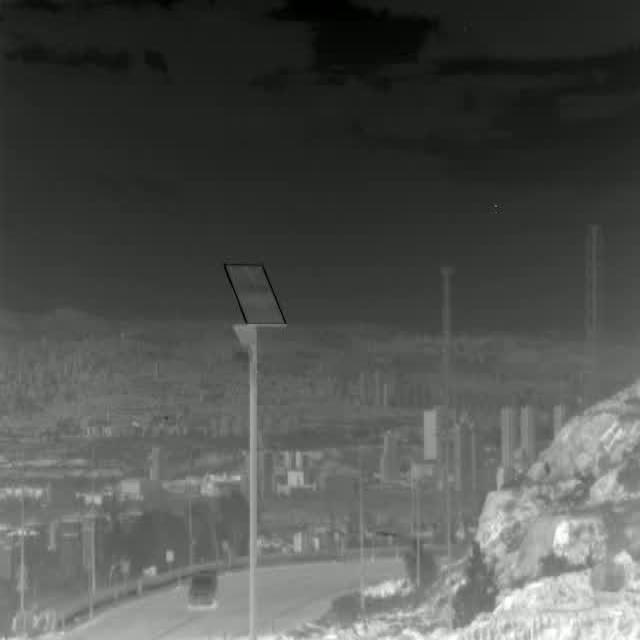Car: (188, 570, 219, 610)
